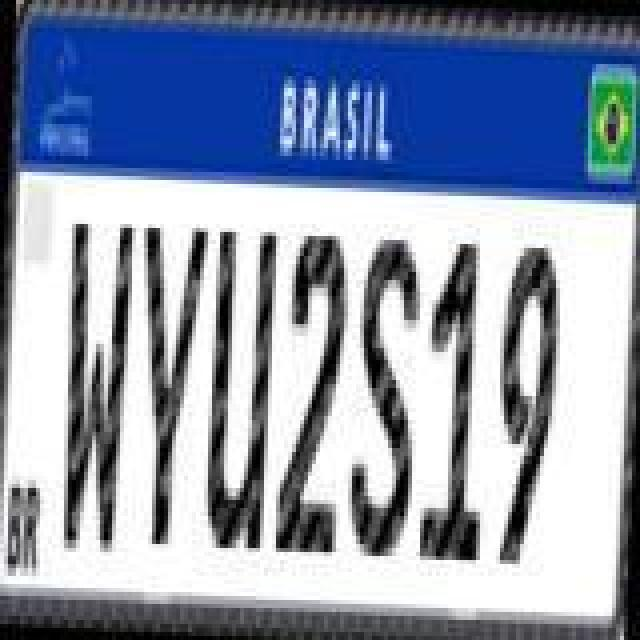1: (414, 234, 498, 566)
2: (270, 226, 354, 558)
9: (488, 236, 568, 572)
S: (342, 230, 426, 562)
U: (200, 226, 280, 558)
W: (54, 216, 138, 560)
Y: (126, 220, 210, 548)
